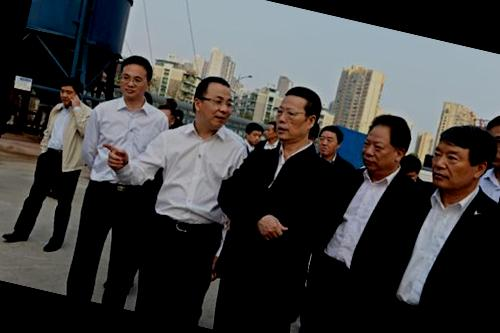no_helmet: (424, 109, 500, 200), (356, 104, 418, 180), (266, 78, 329, 148), (182, 68, 242, 133), (111, 47, 160, 108), (475, 101, 500, 185), (310, 119, 348, 164), (393, 148, 430, 191), (55, 74, 85, 108), (154, 100, 181, 131), (239, 118, 265, 148)
